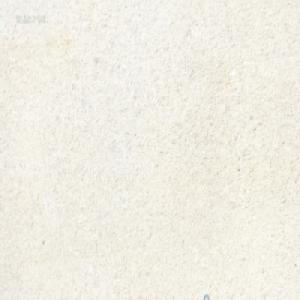Washer: (202, 292, 209, 300)
